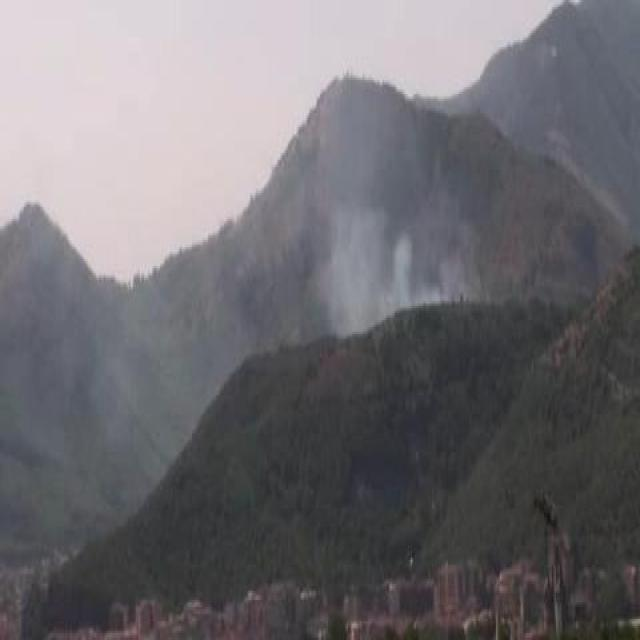Smoke: (308, 152, 460, 335)
